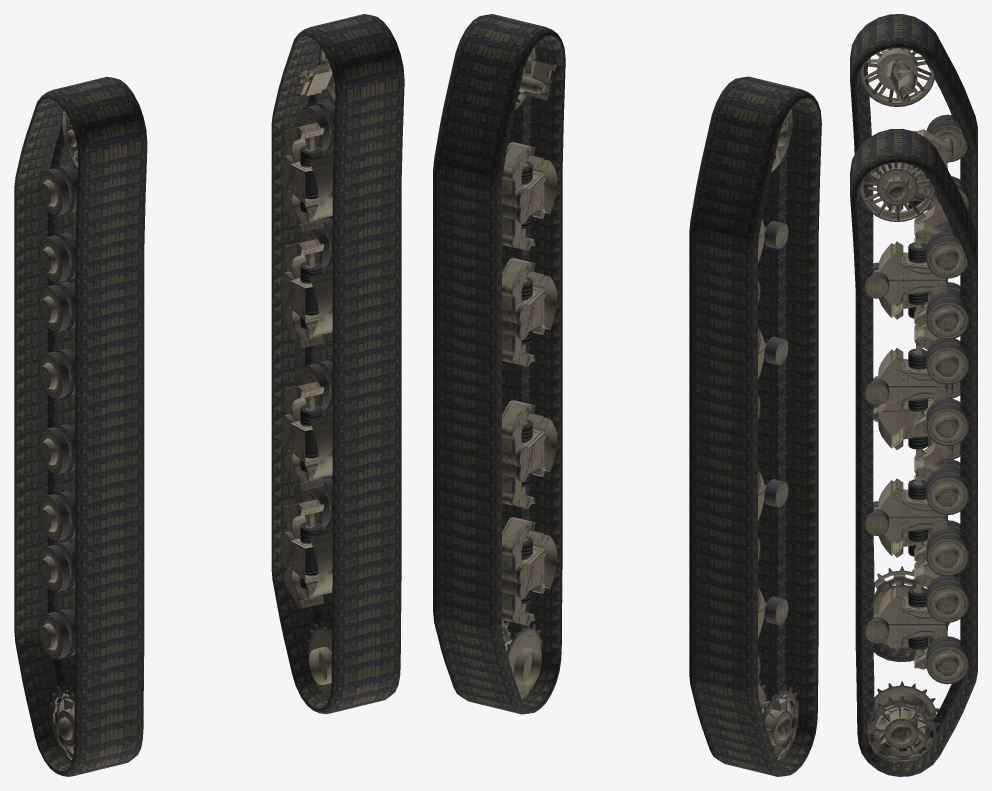
File: Chassis.glb
3 views of the same model, side by side, from view 1: azimuth 30°, elevation 25°; view 2: azimuth 150°, elevation 25°; view 3: azimuth 270°, elevation 25° (orthographic). The views are drawn at different scales.
Visible parts, largest first — view 1: set_0_group_0, set_1_group_0, set_3_group_0, set_2_group_0; view 2: set_0_group_0, set_1_group_0, set_3_group_0, set_2_group_0; view 3: set_3_group_0, set_1_group_0, set_2_group_0, set_0_group_0.
Boxes of the visible parts, <box> form: set_0_group_0: <box>14,76,147,776</box>; set_1_group_0: <box>271,14,404,714</box>; set_3_group_0: <box>280,47,335,699</box>; set_2_group_0: <box>39,109,78,762</box>; set_0_group_0: <box>689,76,821,776</box>; set_1_group_0: <box>433,14,565,714</box>; set_3_group_0: <box>502,46,557,699</box>; set_2_group_0: <box>758,108,798,762</box>; set_3_group_0: <box>859,163,968,763</box>; set_1_group_0: <box>850,128,977,776</box>; set_2_group_0: <box>859,48,968,648</box>; set_0_group_0: <box>850,14,977,661</box>.
Bounding box in the file's own units: 3.84 × 7.68 × 1.43.
Materials: 4 (4 with a texture image).
